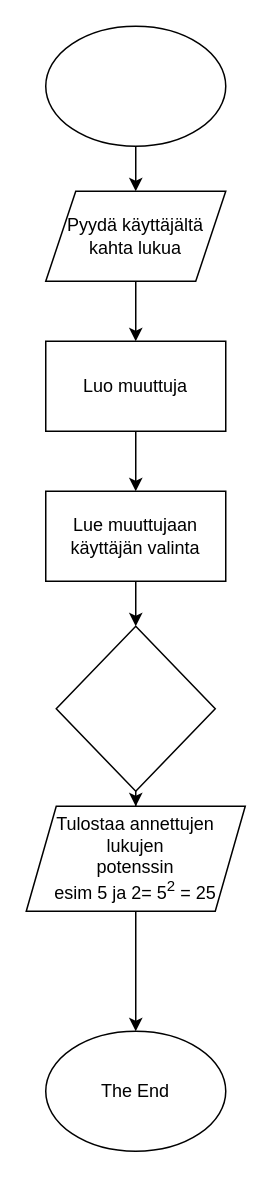
This 272x1178 diagram has some shape labels left out. The box of each missing label's shape, as (x1, y1, x2, y2) in pixels:
Aloitus HTML-sivu: (44, 25, 226, 146)
Anna korotettava luku Anna potenssi: (55, 625, 215, 791)
